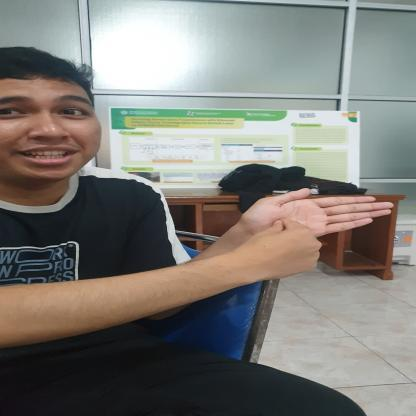Nama: (169, 182, 416, 286)
